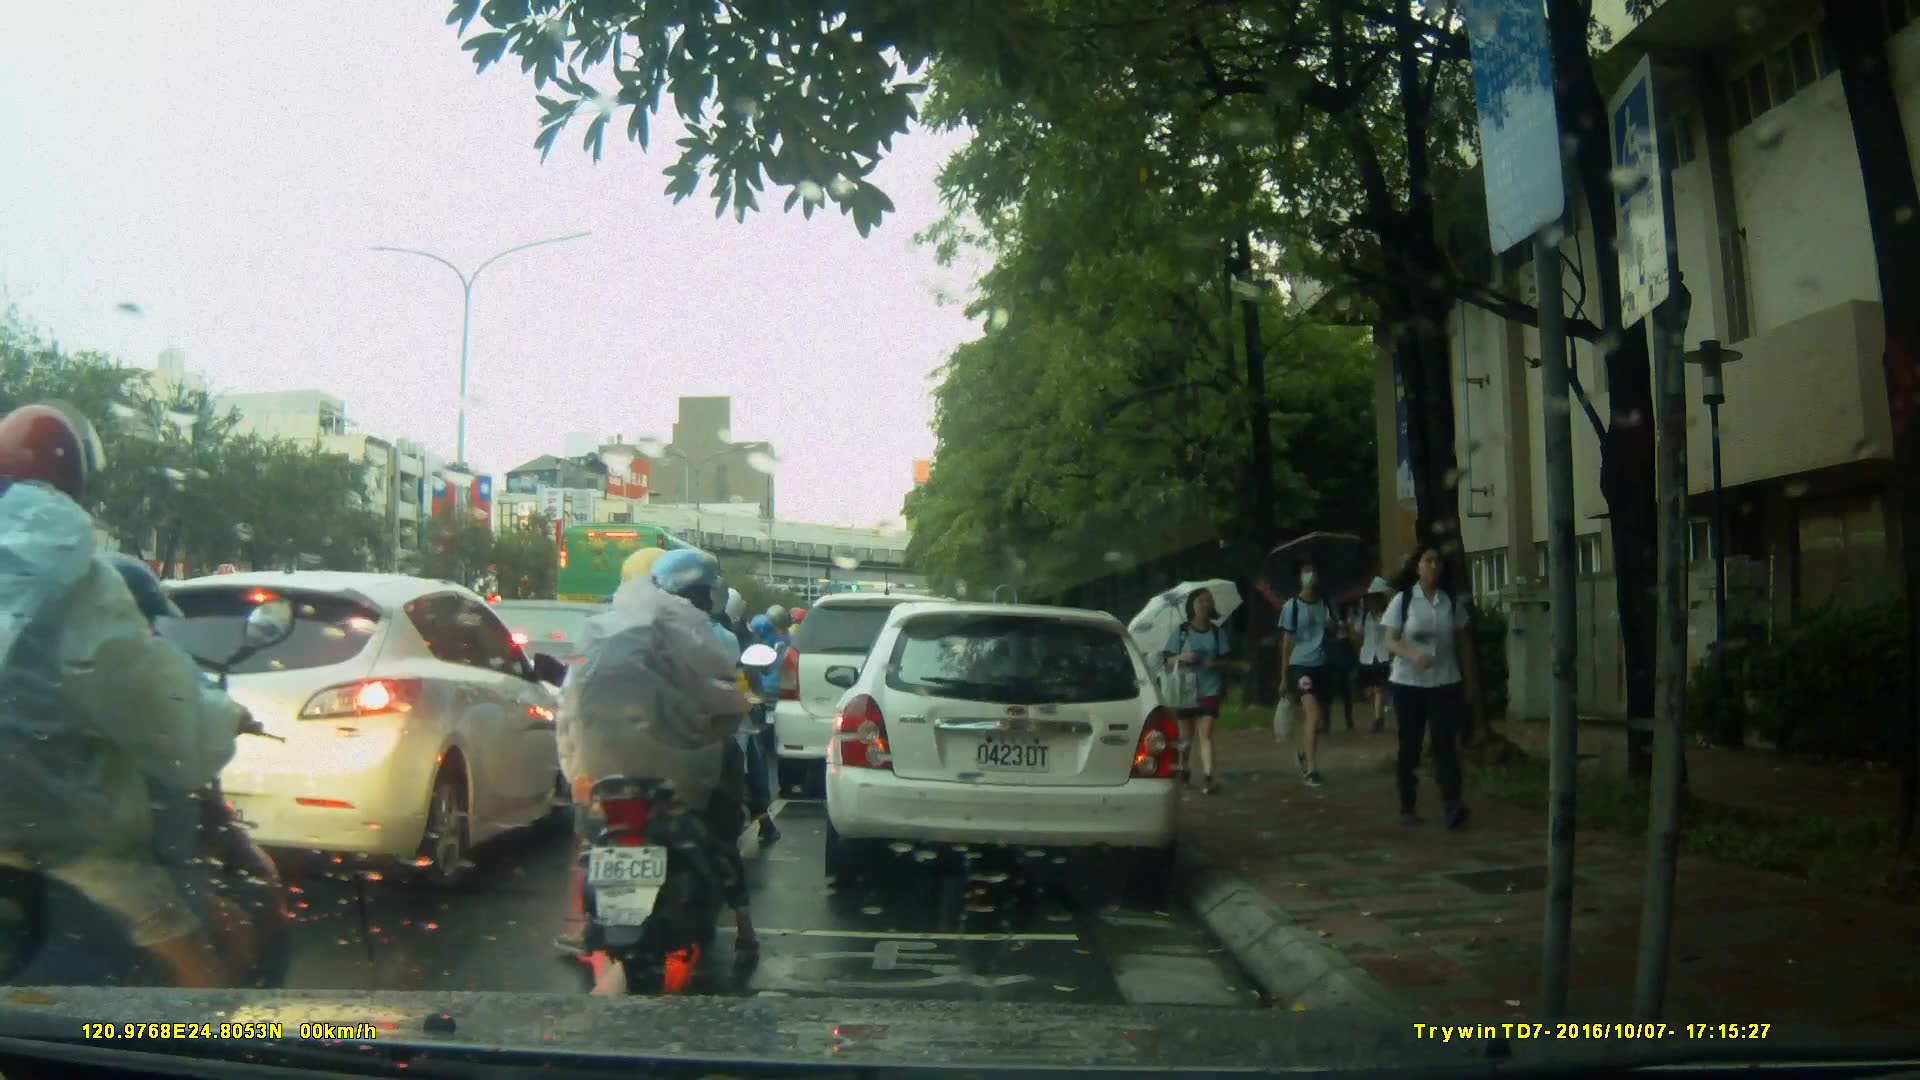pedestrian: (1376, 534, 1493, 840), (1262, 553, 1346, 792), (1163, 581, 1232, 795), (1134, 604, 1174, 740)
rider: (2, 397, 333, 1070), (544, 546, 776, 973), (614, 564, 750, 865), (646, 580, 759, 834), (737, 600, 797, 746)
vehicle: (93, 569, 589, 883), (822, 604, 1186, 882), (774, 595, 995, 802), (554, 519, 739, 666)
